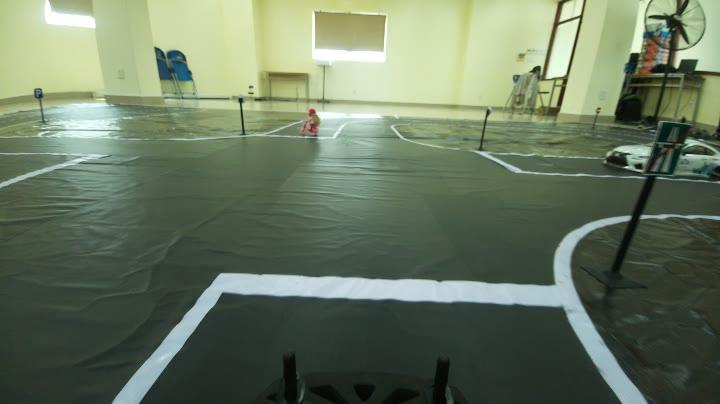highway_exit: (648, 116, 688, 182)
